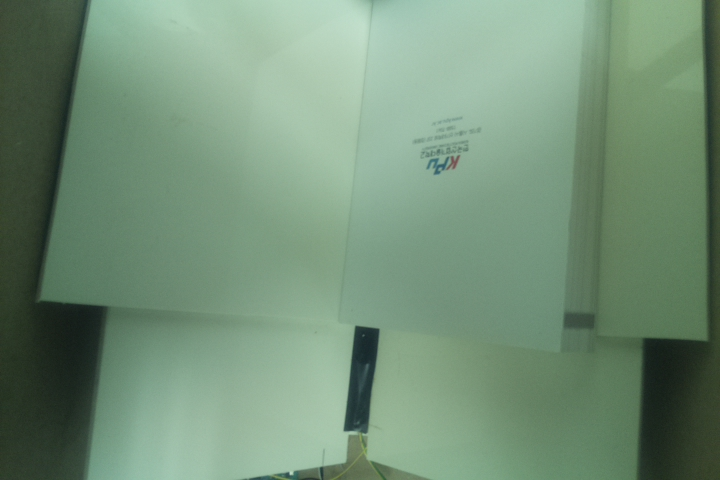book: (337, 1, 610, 354)
